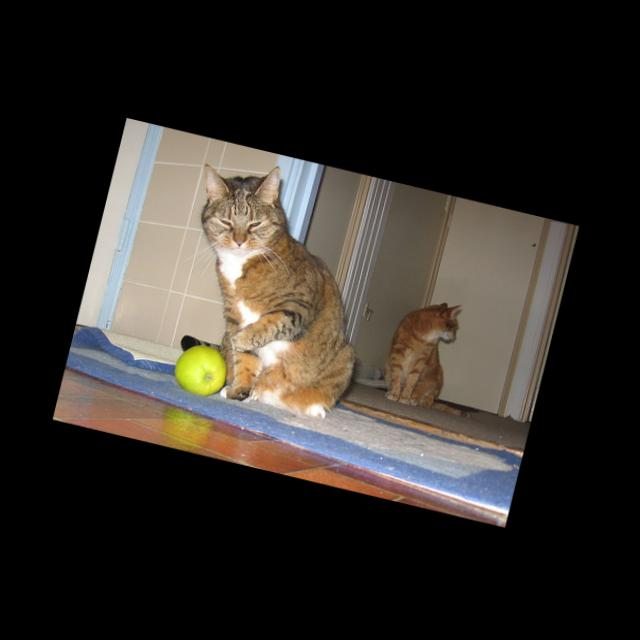animals: (189, 149, 283, 250)
